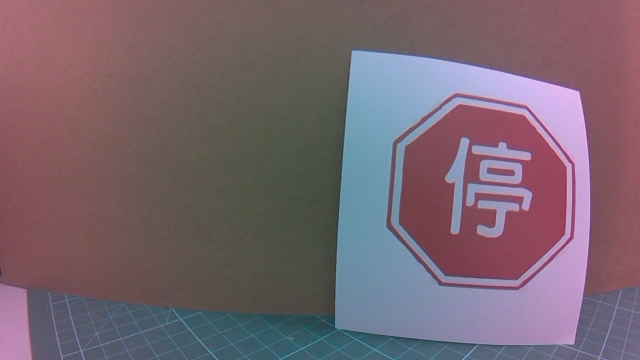stop: (379, 97, 575, 303)
